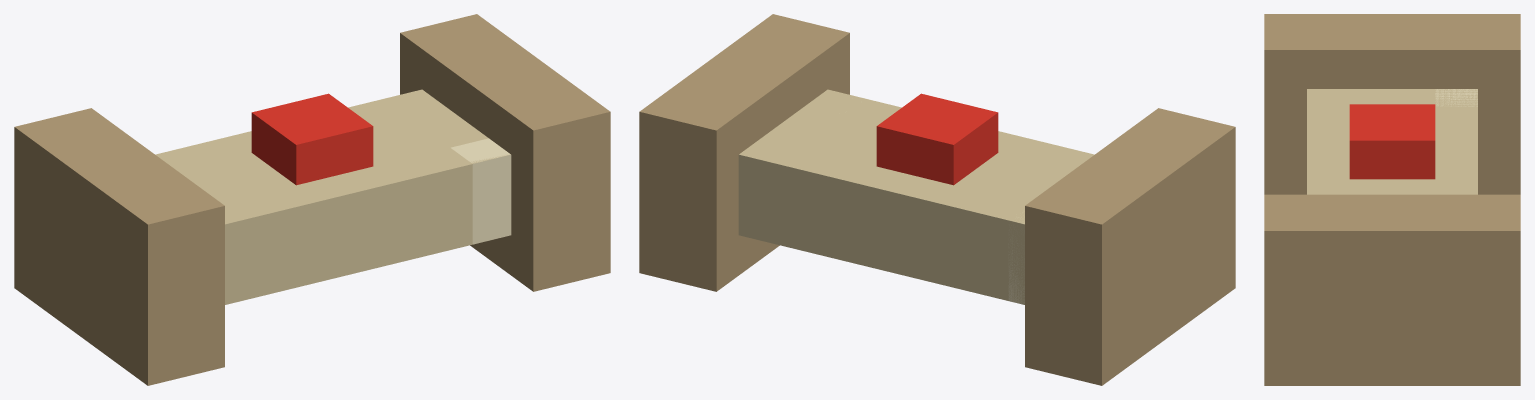
File: item_scroll.glb
3 views of the same model, side by side, from view 1: azimuth 30°, elevation 25°; view 2: azimuth 150°, elevation 25°; view 3: azimuth 270°, elevation 25° (orthographic). The views are drawn at different scales.
Visible parts, largest first — view 1: End mesh, Roll mesh, Seal mesh, Edge mesh; view 2: End mesh, Roll mesh, Seal mesh, Edge mesh; view 3: End mesh, Roll mesh, Seal mesh, Edge mesh.
Boxes of the visible parts, x1,y1,x2,y2 form: End mesh: (14,14,610,385); Roll mesh: (155,89,510,304); Seal mesh: (251,93,373,185); Edge mesh: (451,138,511,244); End mesh: (639,14,1235,385); Roll mesh: (738,89,1094,304); Seal mesh: (876,93,998,185); Edge mesh: (1008,212,1024,304); End mesh: (1264,14,1520,385); Roll mesh: (1307,89,1477,194); Seal mesh: (1349,104,1435,179); Edge mesh: (1435,89,1477,106).
Size of the model in its own units: 12 by 4 by 6.
1 material, 1 textured.
